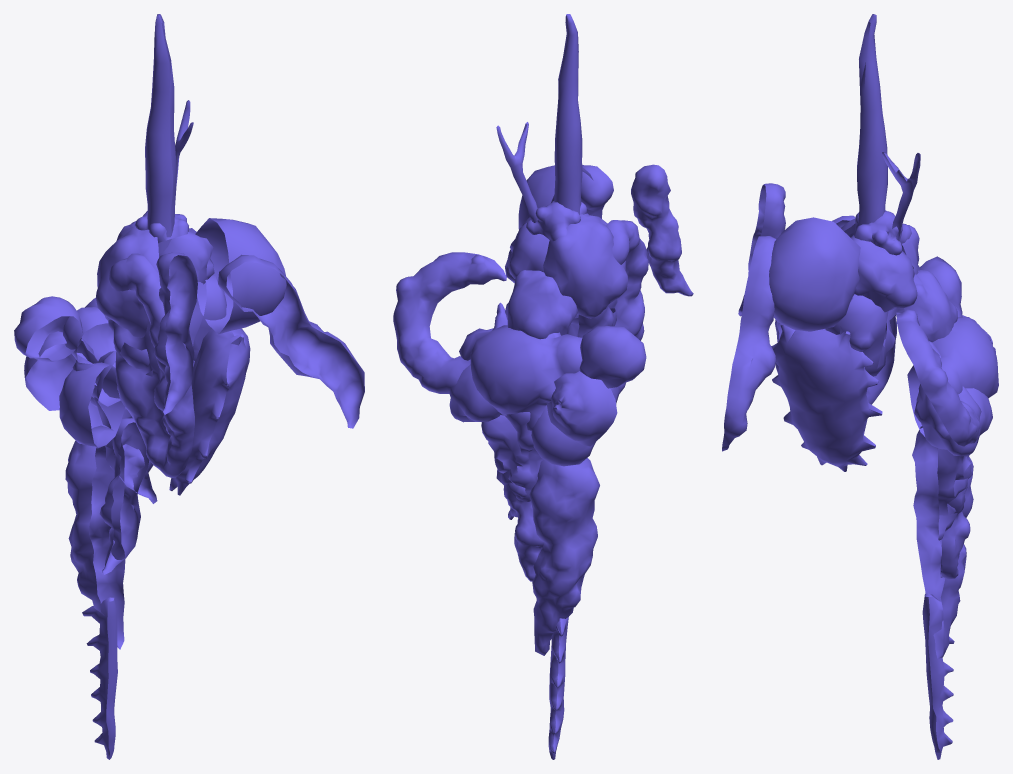
The model's file is flioppedhornetmass.fbx.
The picture shows the model from 3 angles, left to right: view 1: azimuth 30°, elevation 25°; view 2: azimuth 150°, elevation 25°; view 3: azimuth 270°, elevation 25°; orthographic projection. The views are drawn at different scales.
Visible parts, largest first — view 1: Object002; view 2: Object002; view 3: Object002.
Part boxes in pixels (x1=…): Object002: x1=14, y1=14, x2=364, y2=759; Object002: x1=393, y1=14, x2=693, y2=759; Object002: x1=722, y1=14, x2=998, y2=759.
Bounding box in the file's own units: 8213 × 22871 × 7617.
